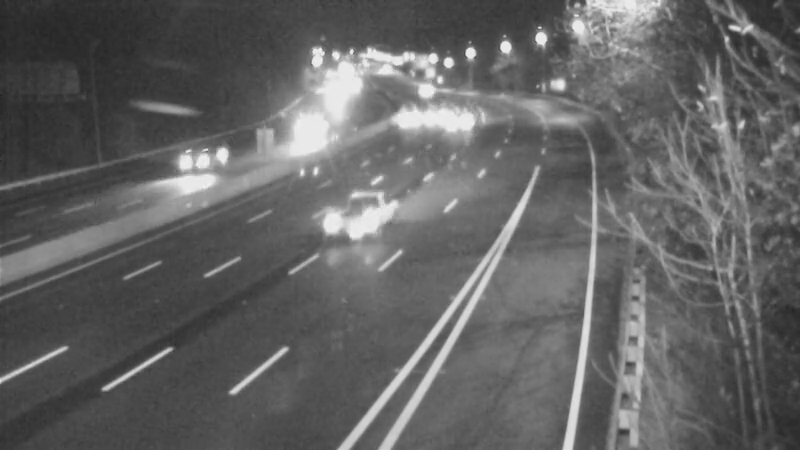vehicle: (303, 175, 383, 255), (155, 117, 235, 197), (400, 63, 450, 113), (404, 93, 454, 143), (376, 94, 426, 144), (430, 95, 480, 145), (284, 105, 334, 155)
